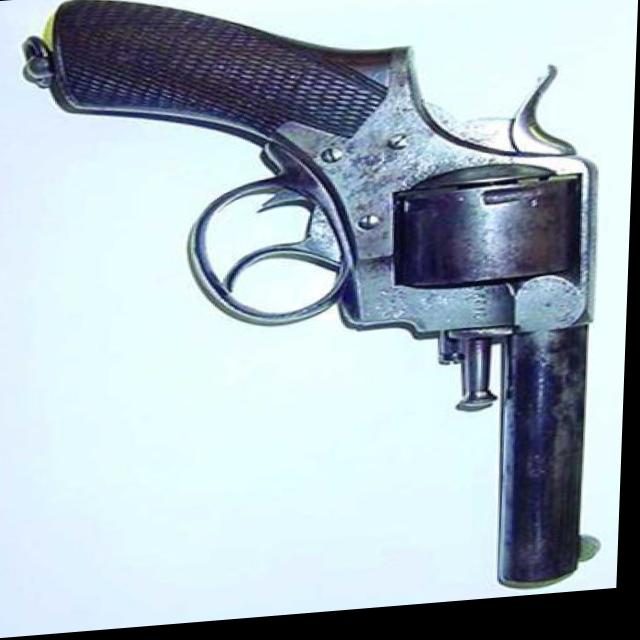handgun: (4, 0, 622, 629)
